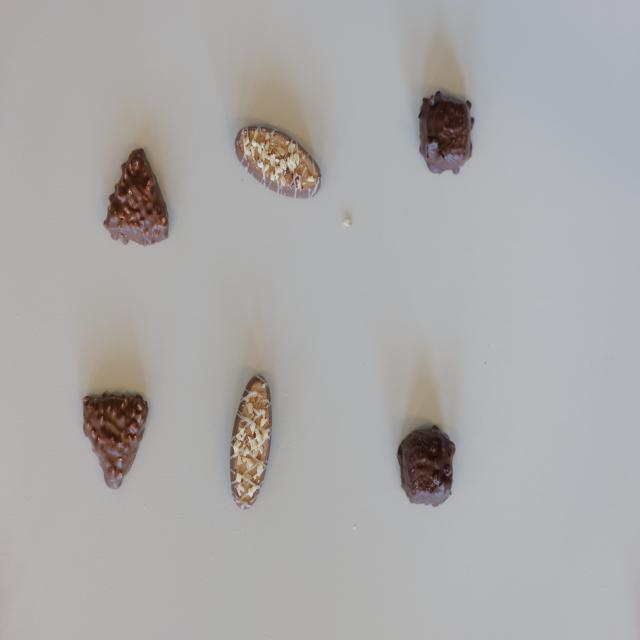Amandina: (235, 126, 322, 198), (230, 373, 273, 510)
Tentation_noir: (418, 88, 475, 176), (397, 426, 457, 508)
Triangolo: (102, 146, 170, 248), (82, 392, 148, 489)
